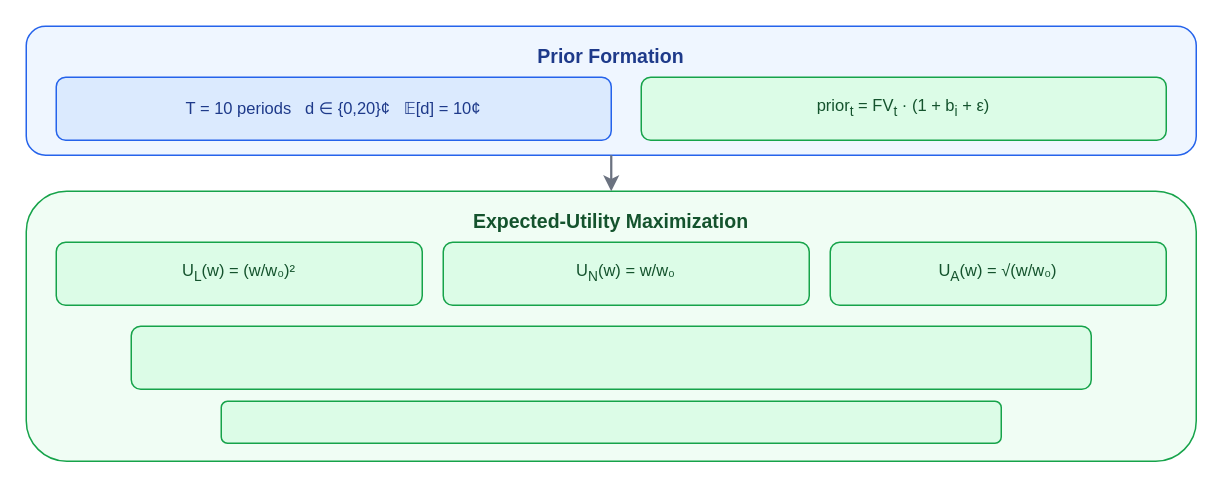
The diagram is 1223 pixels wide and 488 high, and some of its shapes have lost their labels. Here are the shapes that lost their labels. From the top down, the centre of each, then its label:
the point at 610,357: EU(a) = p fill · U(w₁) + (1 − p fill ) · U(w₀)
the point at 610,421: a* = argmax EU(a), a ∈ {hold, buy, sell, bid, ask}
